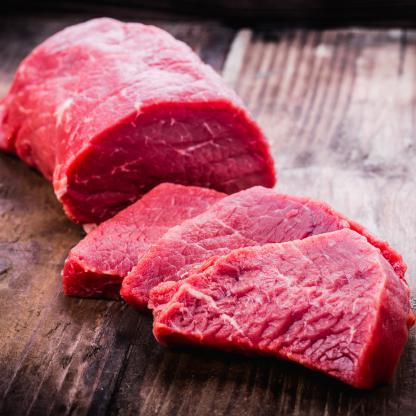beef: (20, 34, 411, 384)
